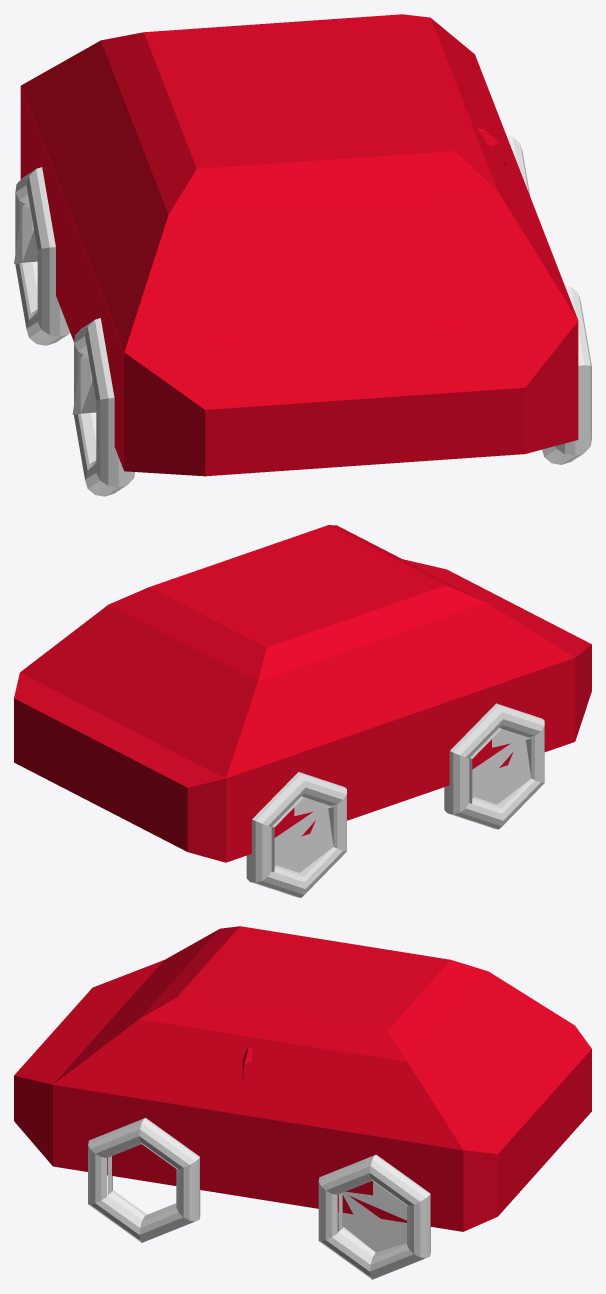
File: car.glb
The picture shows the model from 3 angles, top to bottom: view 1: azimuth 30°, elevation 25°; view 2: azimuth 150°, elevation 25°; view 3: azimuth 270°, elevation 25°; orthographic projection. The views are drawn at different scales.
Visible parts, largest first — view 1: Cube, Cube.003, Cube.004, Cube.001; view 2: Cube, Cube.003, Cube.004; view 3: Cube, Cube.002, Cube.001.
Part boxes in pixels (left/top/right/bottom): Cube: left=20, top=14, right=578, bottom=476; Cube.003: left=72, top=318, right=134, bottom=496; Cube.004: left=14, top=167, right=70, bottom=345; Cube.001: left=542, top=285, right=591, bottom=464; Cube: left=14, top=525, right=591, bottom=862; Cube.003: left=444, top=703, right=544, bottom=829; Cube.004: left=246, top=772, right=346, bottom=897; Cube: left=14, top=926, right=591, bottom=1231; Cube.002: left=318, top=1154, right=430, bottom=1279; Cube.001: left=88, top=1118, right=200, bottom=1242.
Size of the model in its own units: 3.77 by 2 by 4.83.
